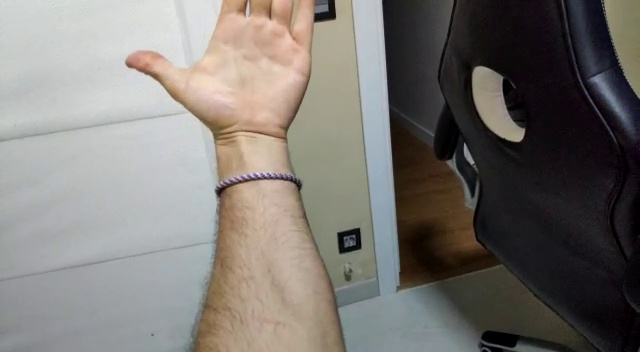Palm: (125, 1, 319, 149)
